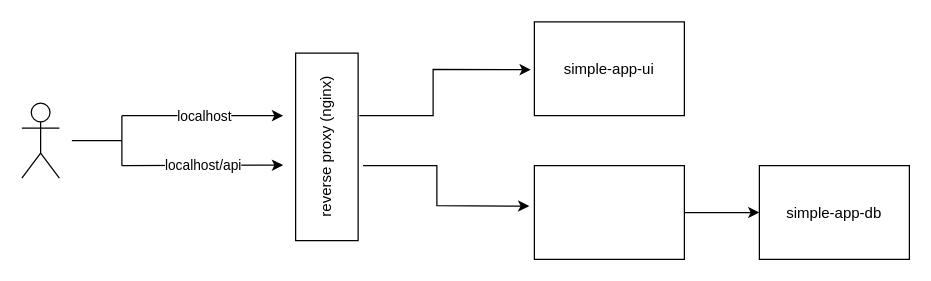
Some shapes in this 931 by 281 pixel diagram are drawn without their labels. The shapes that lost their labels are listed below. From the top down, each one's centre as x and y in pixels, then its label:
the point at 40,140: Actor
the point at 608,211: simple-app-server
